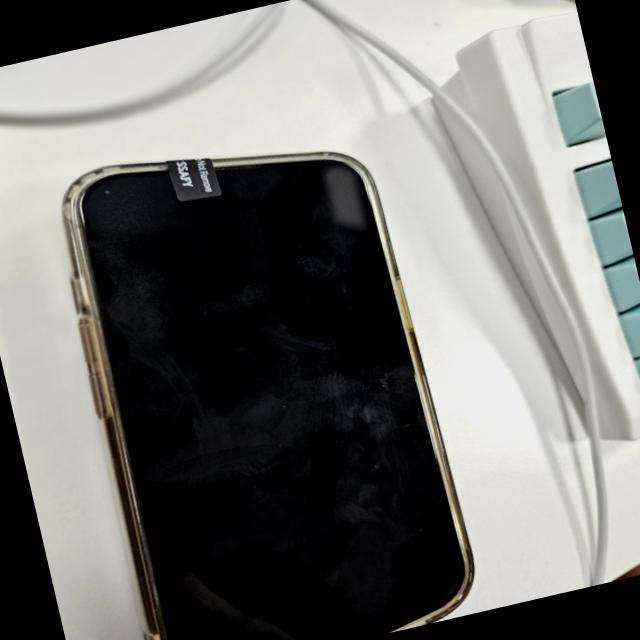phone: (41, 101, 481, 640)
sticker: (162, 144, 232, 202)
